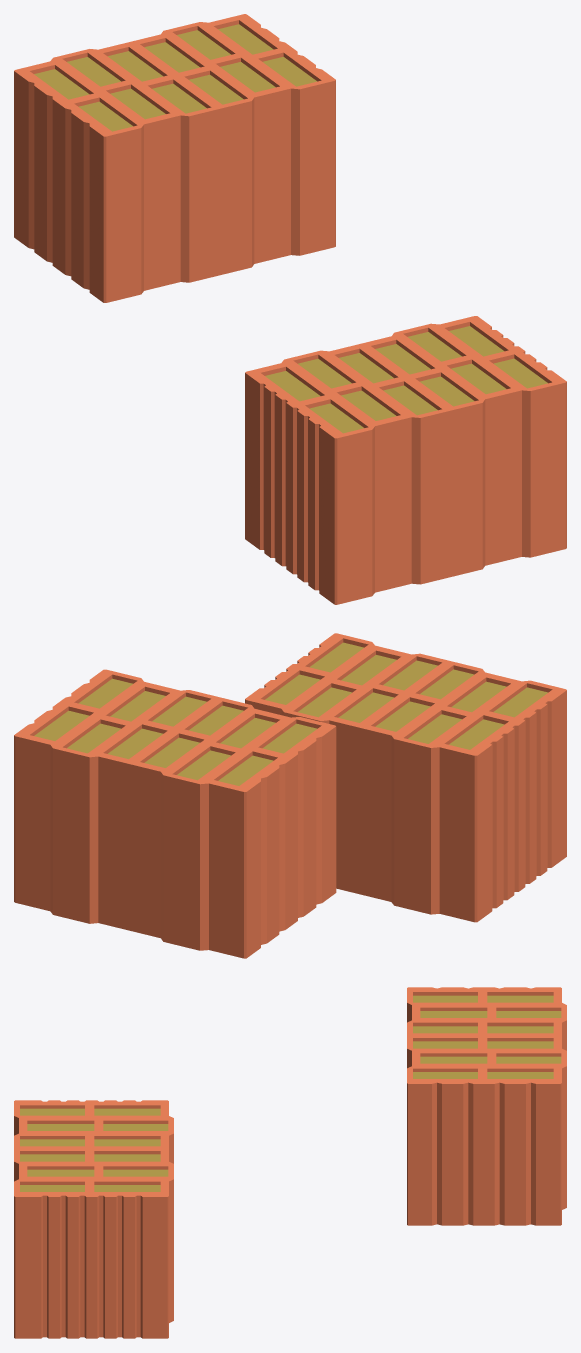
3 renders of one model, top to bottom at view 1: azimuth 30°, elevation 25°; view 2: azimuth 150°, elevation 25°; view 3: azimuth 270°, elevation 25°, orthographic. The views are drawn at different scales.
Parts seen in each view (by area): view 1: Außenziegel template.001, Außenziegel template.002; view 2: Außenziegel template.001, Außenziegel template.002; view 3: Außenziegel template.001, Außenziegel template.002.
Part boxes in pixels (x1,y1,x2,y2): Außenziegel template.001: [14, 14, 335, 302]; Außenziegel template.002: [245, 316, 566, 604]; Außenziegel template.001: [14, 669, 336, 958]; Außenziegel template.002: [245, 633, 566, 922]; Außenziegel template.001: [407, 987, 566, 1225]; Außenziegel template.002: [14, 1100, 173, 1338].
Bounding box in the file's own units: 0.3653 × 0.4494 × 0.8841.
